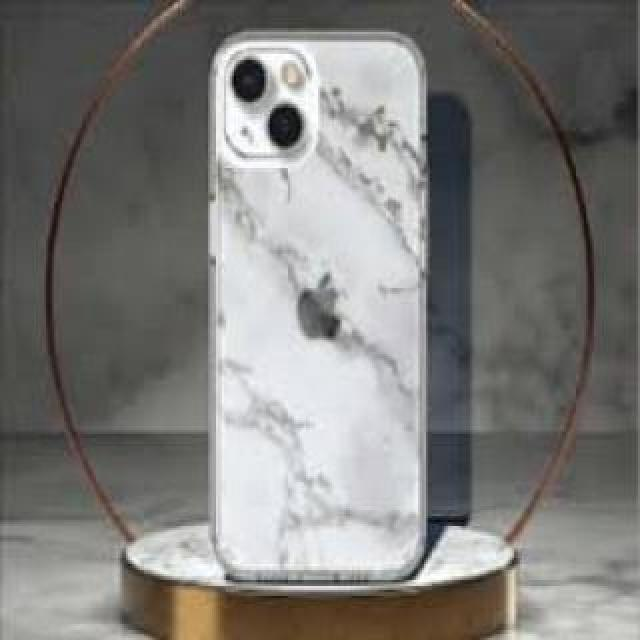smart phone: (188, 12, 458, 590)
